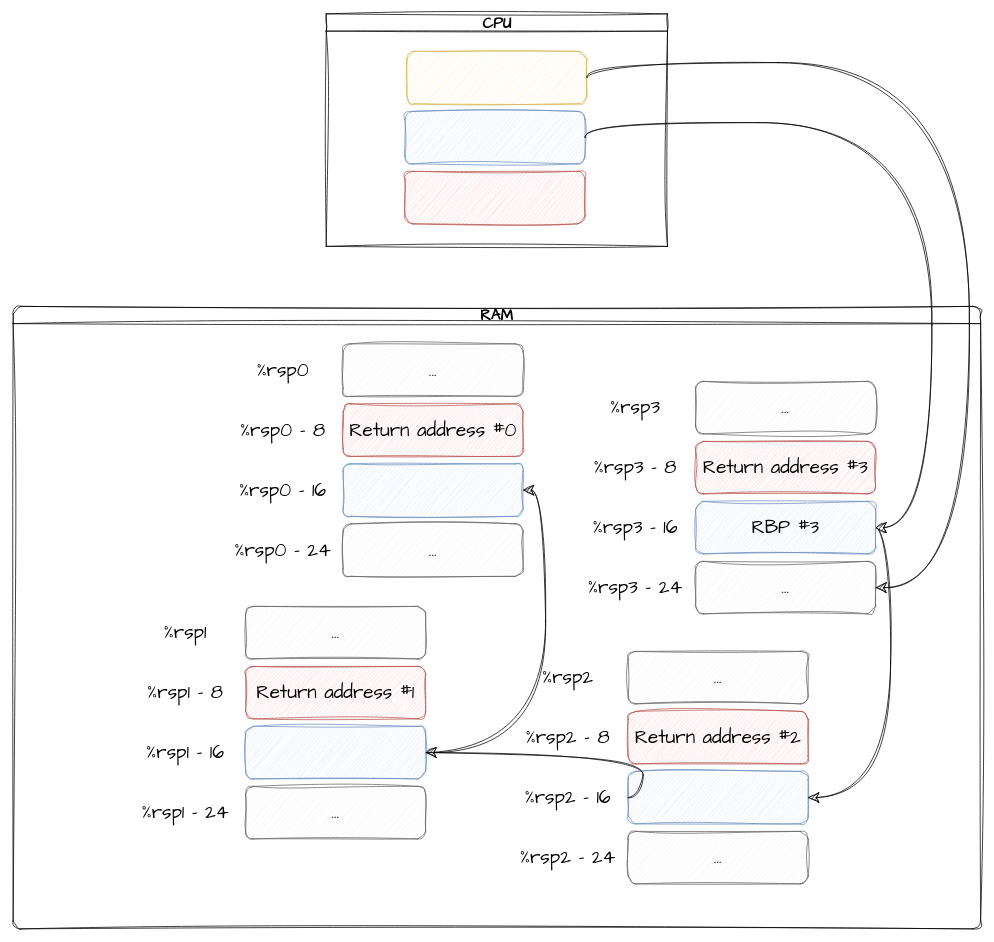
This 994x942 diagram has some shape labels left out. The shapes that lost their labels are listed below. From the top down, each one's centre as x and y in pixels, then its label:
At (496,77): "RSP".
At (494,137): "RBP".
At (494,197): "RIP".
At (432,489): "RBP #0".
At (335,752): "RBP #1".
At (717,797): "RBP #2".
